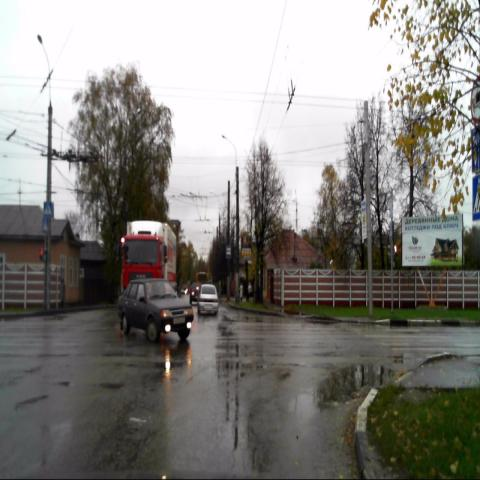5_19_1: (44, 200, 52, 216)
